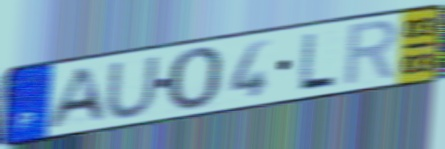4: (227, 38, 272, 101)
A: (42, 65, 111, 132)
L: (294, 30, 339, 91)
O: (165, 45, 227, 114)
R: (340, 16, 403, 90)
U: (103, 53, 162, 120)
